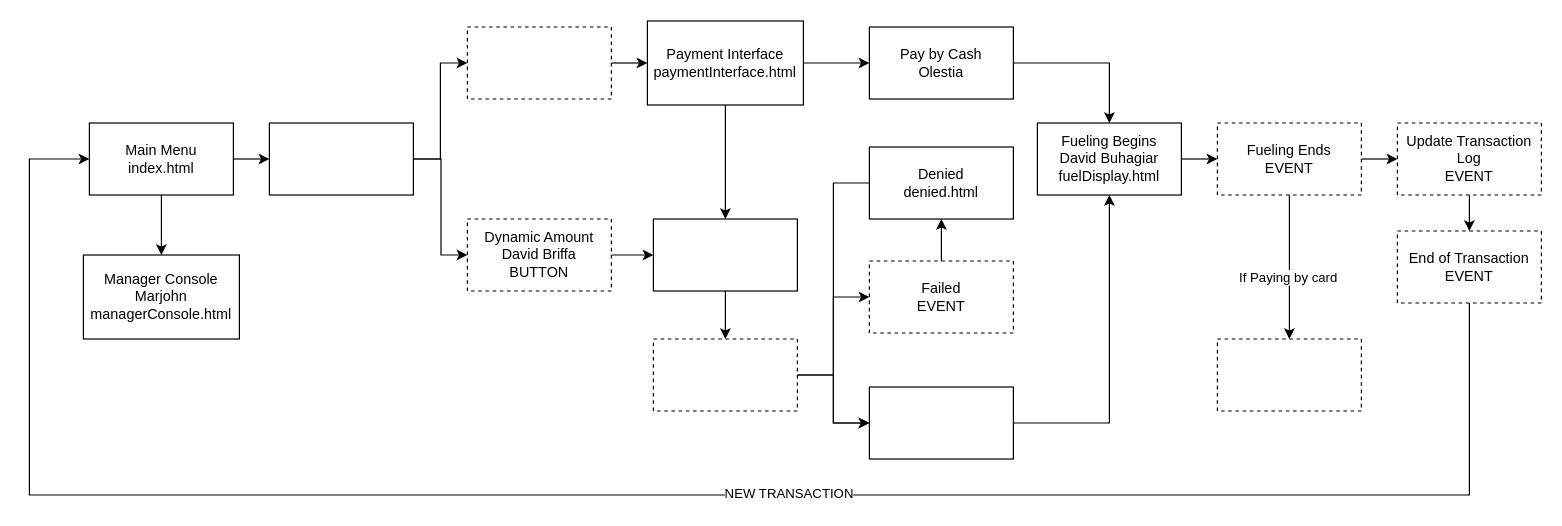
Some shapes in this 1562 by 526 pixel diagram are drawn without their labels. Each missing label, with the centre of its shape:
Accepted accepted.html: the point at 940,422
Charge Card EVENT: the point at 1288,374
Fuel Selection Timmy gradeSelect.html: the point at 340,158
Pay By Card creditCard.html: the point at 724,254
Static Amount BUTTON: the point at 538,62
Validate BUTTON: the point at 724,374
